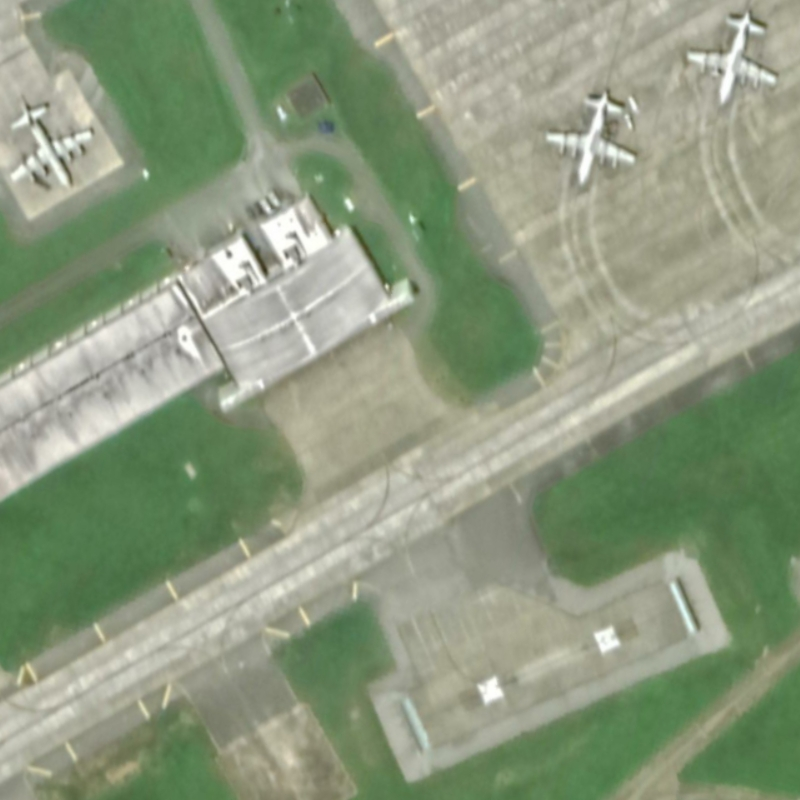A9: (539, 84, 641, 192), (681, 5, 782, 111), (5, 87, 101, 197)
